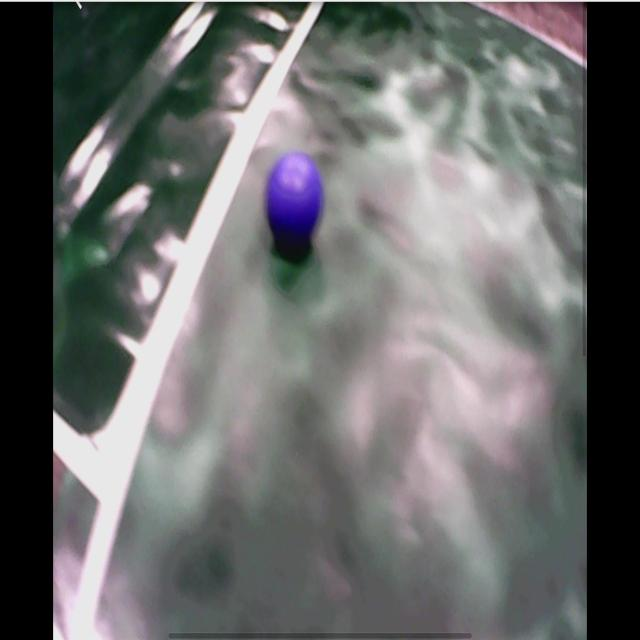ball: (268, 156, 324, 240)
